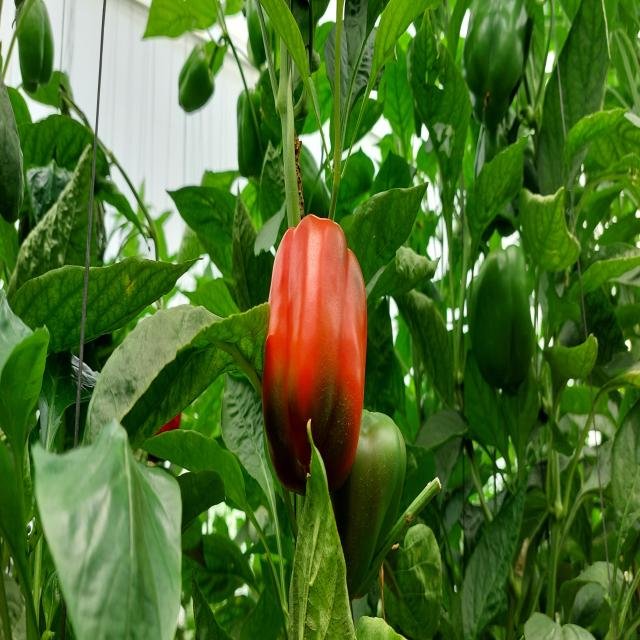Green--Not-ready-to-harvest: (461, 232, 538, 391), (467, 10, 533, 116), (18, 5, 53, 89)
Red-Ready-to-Harvest: (254, 218, 373, 494)
